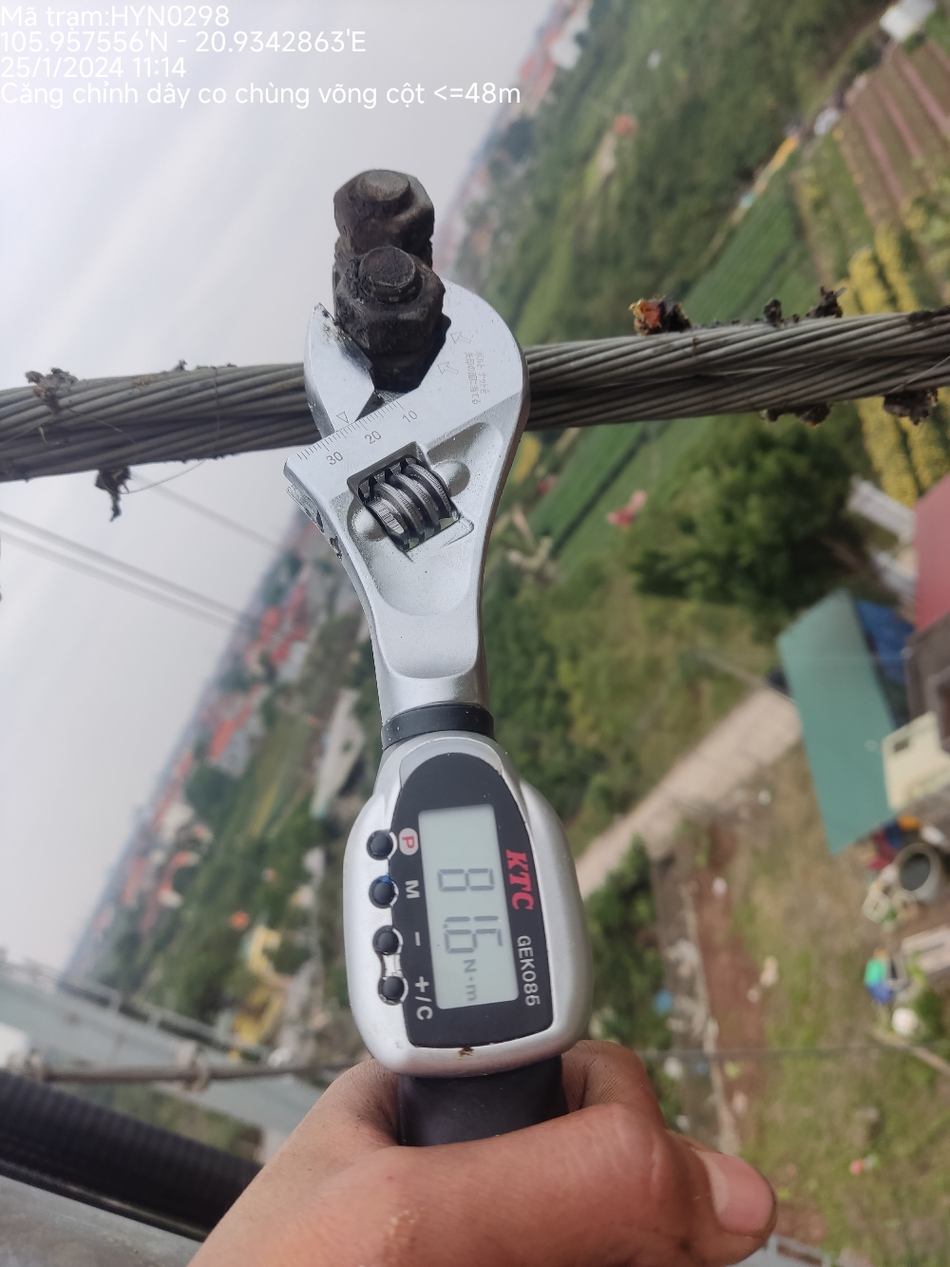lcd: (408, 801, 520, 1012)
torque: (249, 258, 624, 1086)
